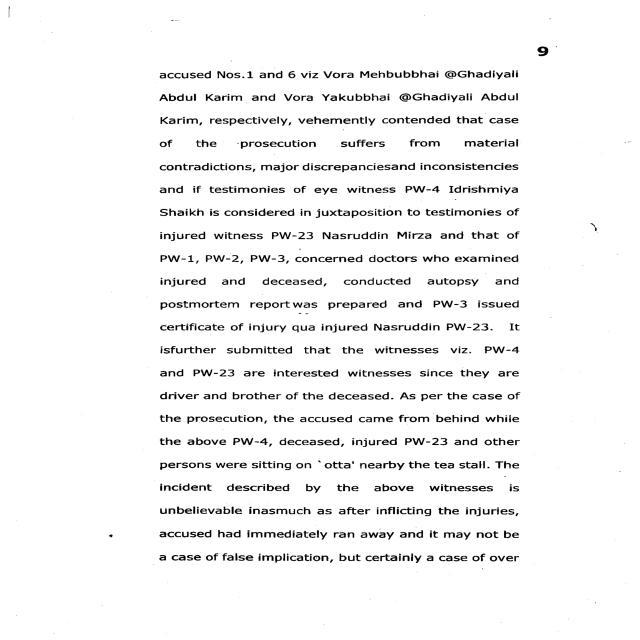page-number: (412, 0, 638, 65)
